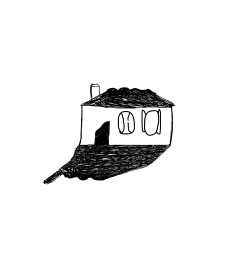chimney: (86, 79, 105, 104)
door: (90, 116, 115, 149)
open_window: (139, 104, 164, 138), (115, 110, 138, 138)
shaded_roof: (76, 81, 182, 111)
shadow: (39, 140, 184, 196)
small_house: (2, 1, 234, 260)
wall: (76, 102, 176, 147)
